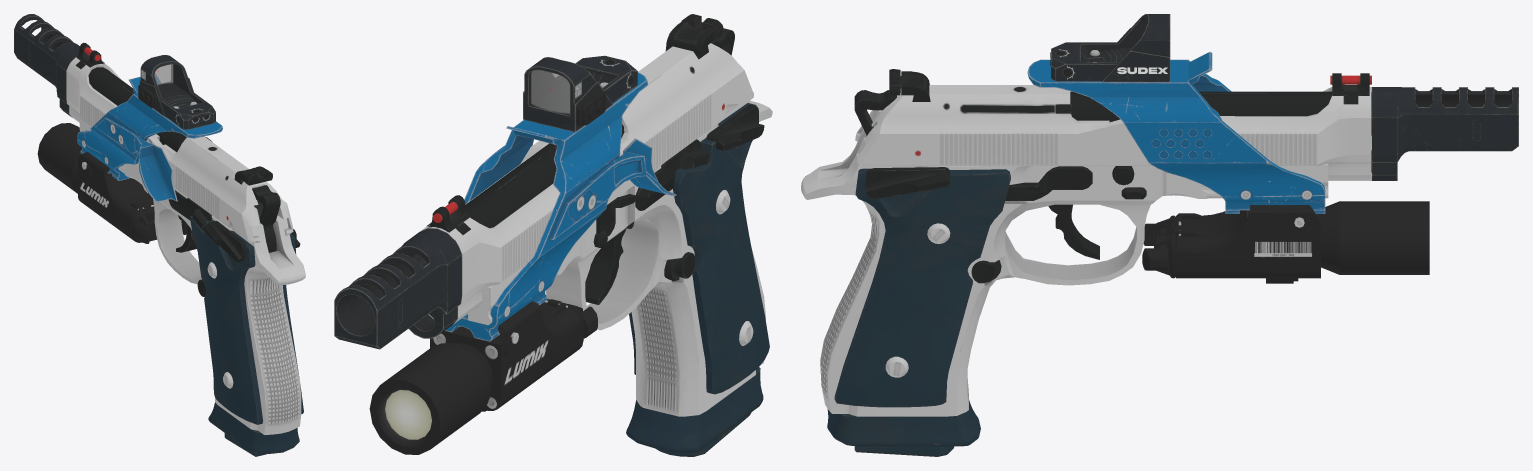
The model's file is gun.glb.
3 renders of one model, left to right at view 1: azimuth 30°, elevation 25°; view 2: azimuth 150°, elevation 25°; view 3: azimuth 270°, elevation 25°, orthographic. The views are drawn at different scales.
Parts seen in each view (by area): view 1: Flash_low; view 2: Flash_low; view 3: Flash_low.
Boxes of the visible parts, <box> form: Flash_low: <box>14,14,305,456</box>; Flash_low: <box>334,14,772,456</box>; Flash_low: <box>801,14,1518,456</box>.
Size of the model in its own units: 0.047 by 0.1778 by 0.2708.
Materials: 3 (3 with a texture image).
